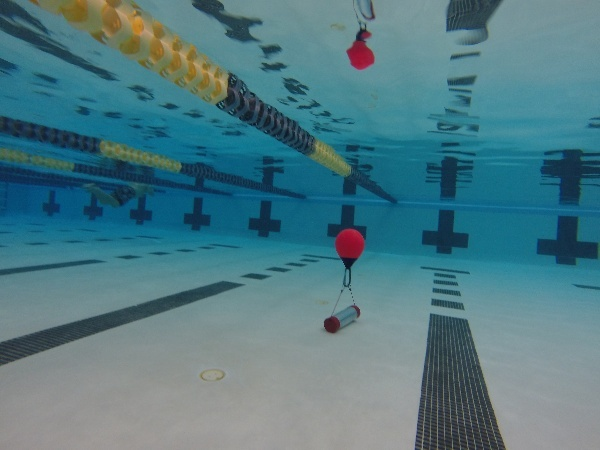buoy_red: (331, 225, 366, 273)
